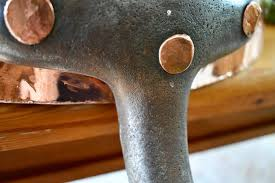rust: (6, 1, 53, 43), (161, 40, 194, 72), (246, 7, 264, 32)
